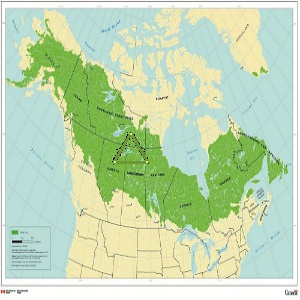triangle: (109, 129, 151, 169)
